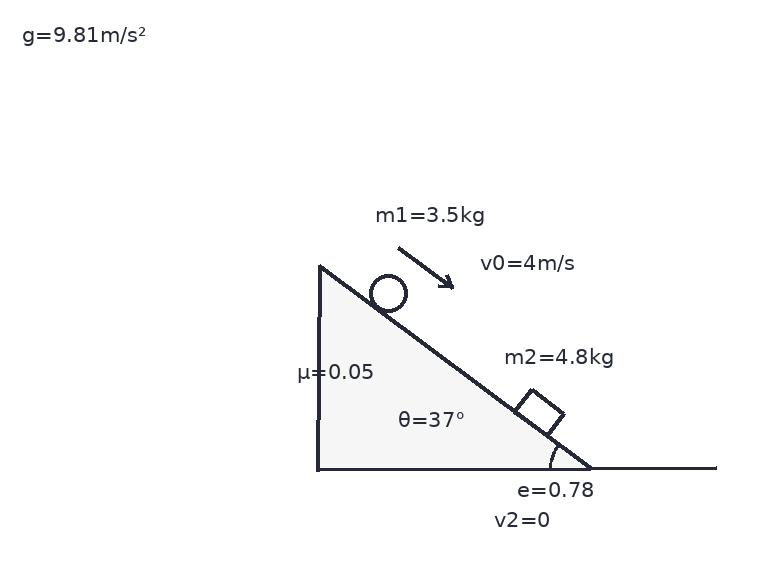ball: (367, 272, 409, 314)
block: (512, 387, 565, 438)
ramp: (316, 262, 592, 471)
